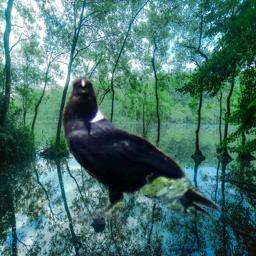Crow: (60, 76, 224, 224)
